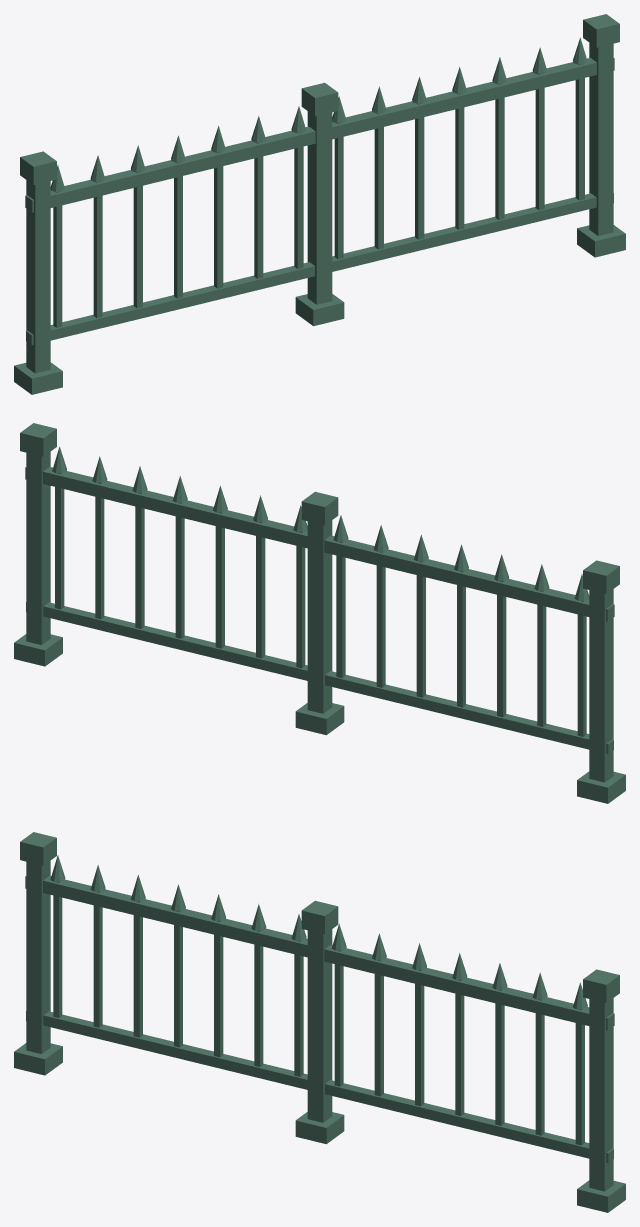
The model's file is botanical-glasshouse-and-palm-house-botanical-glasshou-b33d8a6d__38561.glb.
3 renders of one model, top to bottom at view 1: azimuth 30°, elevation 25°; view 2: azimuth 150°, elevation 25°; view 3: azimuth 330°, elevation 25°, orthographic.
Visible parts, largest first — view 1: botanical-glasshouse-and-palm-house-railing-run; view 2: botanical-glasshouse-and-palm-house-railing-run; view 3: botanical-glasshouse-and-palm-house-railing-run.
Part boxes in pixels (left/top/right/bottom): botanical-glasshouse-and-palm-house-railing-run: left=14, top=14, right=625, bottom=394; botanical-glasshouse-and-palm-house-railing-run: left=14, top=423, right=625, bottom=803; botanical-glasshouse-and-palm-house-railing-run: left=14, top=832, right=625, bottom=1212.
Bounding box in the file's own units: 3.06 × 1.11 × 0.1599.
